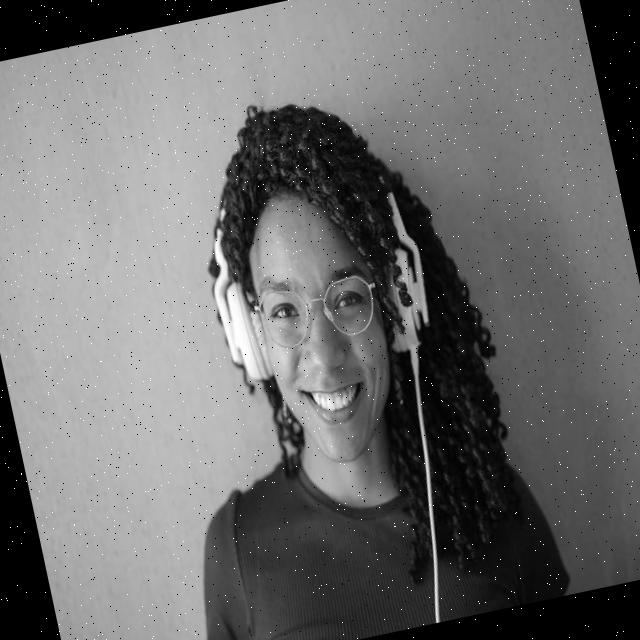Happiness: (232, 177, 413, 478)
